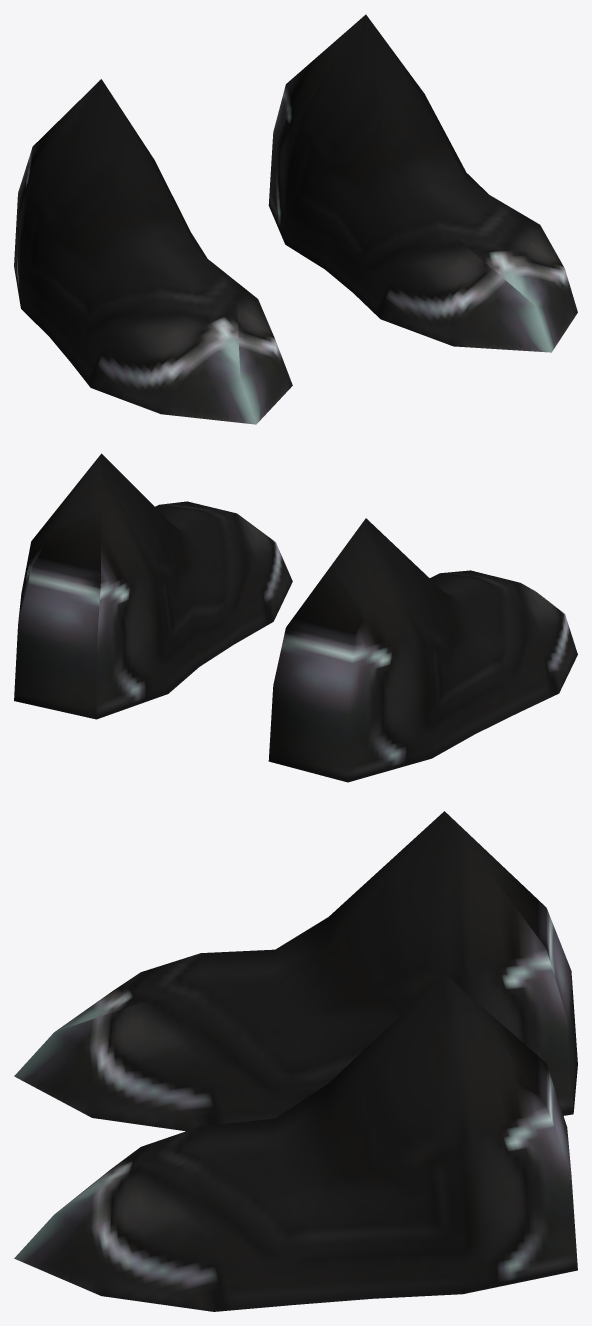
The model's file is hum_light_f_88ae699c.glb.
3 views of the same model, one above another, from view 1: azimuth 30°, elevation 25°; view 2: azimuth 150°, elevation 25°; view 3: azimuth 270°, elevation 25° (orthographic). The views are drawn at different scales.
Size of the model in its own units: 0.6212 by 0.2755 by 0.5123.
Materials: 1 (1 with a texture image).
